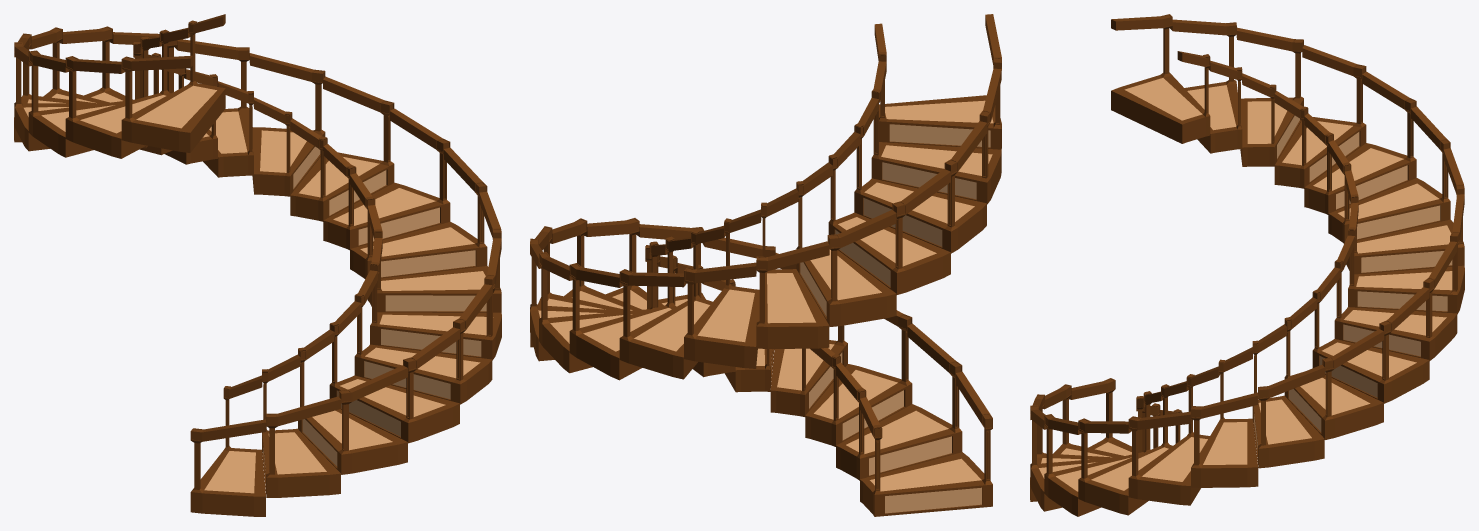
File: Arch_Stairs_Spiral.fbx
3 renders of one model, left to right at view 1: azimuth 30°, elevation 25°; view 2: azimuth 150°, elevation 25°; view 3: azimuth 270°, elevation 25°, orthographic. The views are drawn at different scales.
Parts seen in each view (by area): view 1: StairsCurved.003; view 2: StairsCurved.003; view 3: StairsCurved.003.
Boxes of the visible parts, x1=… form: StairsCurved.003: x1=14, y1=14, x2=501, y2=516; StairsCurved.003: x1=530, y1=14, x2=1001, y2=516; StairsCurved.003: x1=1030, y1=14, x2=1464, y2=516.
Size of the model in its own units: 439 by 474 by 428.
